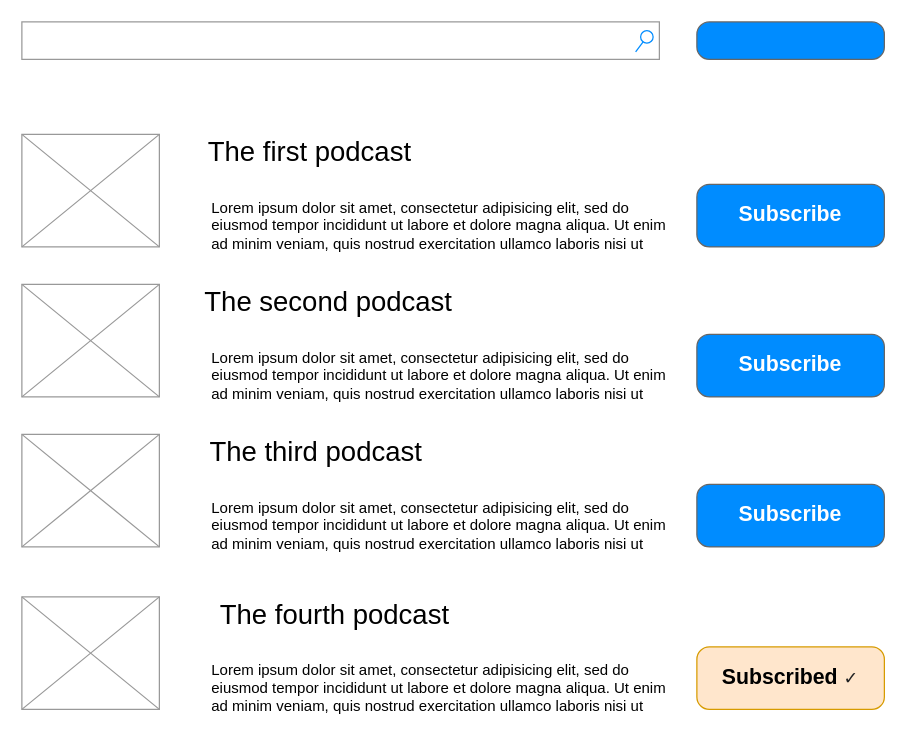
Some shapes in this 906 by 744 pixel diagram are drawn without their labels. The shapes that lost their labels are listed below. From the top down, each one's box as (x1, y1, x2, y2) in pixels, then its label:
(21, 21, 659, 59): Search
(696, 21, 884, 59): Find
